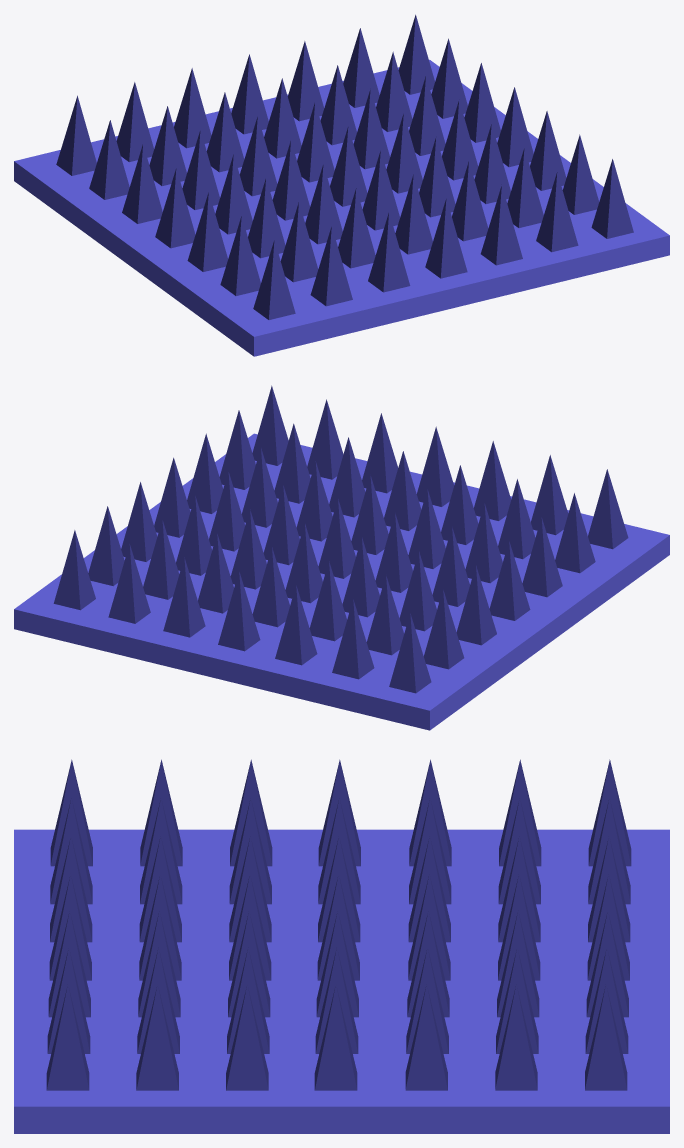
File: Thorn_trap.fbx
3 renders of one model, top to bottom at view 1: azimuth 30°, elevation 25°; view 2: azimuth 150°, elevation 25°; view 3: azimuth 270°, elevation 25°, orthographic. The views are drawn at different scales.
Parts seen in each view (by area): view 1: pCone44; view 2: pCone44; view 3: pCone44.
Part boxes in pixels (x1,y1,x2,y2): pCone44: (14, 14, 669, 356); pCone44: (14, 385, 669, 730); pCone44: (14, 759, 669, 1133).
Size of the model in its own units: 12.12 by 2.55 by 12.12.
